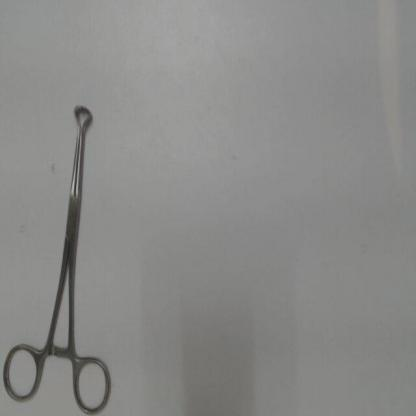Babcock Tissue Forceps: (1, 101, 116, 415)
